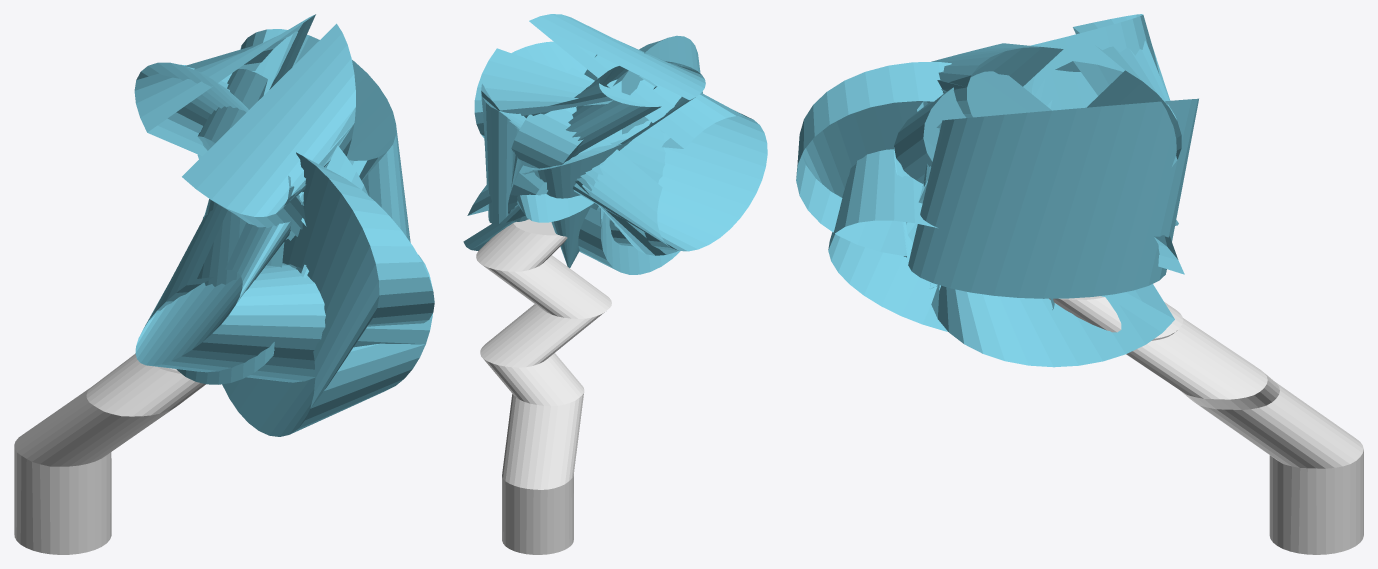
File: tree1.glb
The picture shows the model from 3 angles, left to right: view 1: azimuth 30°, elevation 25°; view 2: azimuth 150°, elevation 25°; view 3: azimuth 270°, elevation 25°; orthographic projection. The views are drawn at different scales.
Parts seen in each view (by area): view 1: Cone, Cylinder; view 2: Cone, Cylinder; view 3: Cone, Cylinder.
Part boxes in pixels (x1=…): Cone: x1=134, y1=14, x2=434, y2=436; Cylinder: x1=14, y1=353, x2=205, y2=554; Cone: x1=463, y1=14, x2=767, y2=274; Cylinder: x1=476, y1=219, x2=611, y2=554; Cone: x1=796, y1=14, x2=1198, y2=367; Cylinder: x1=1049, y1=296, x2=1363, y2=554.
Size of the model in its own units: 6.52 by 12.94 by 12.03.
